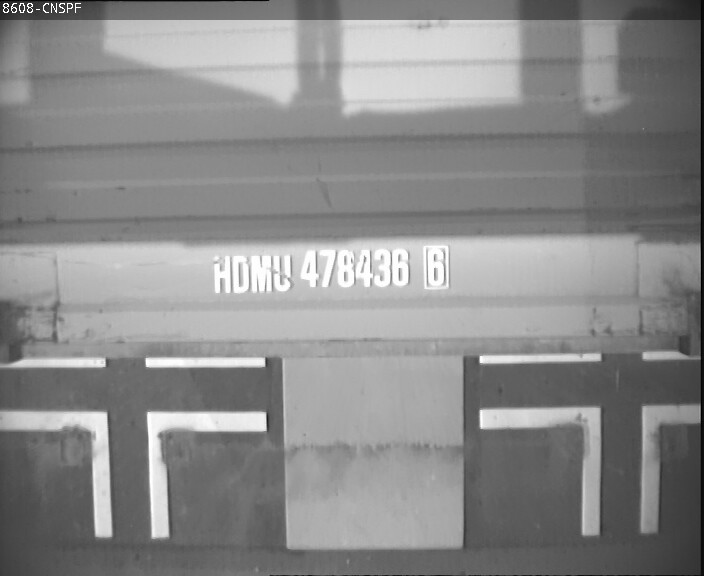groundmarker_1: (1, 407, 267, 541), (480, 404, 703, 541)
